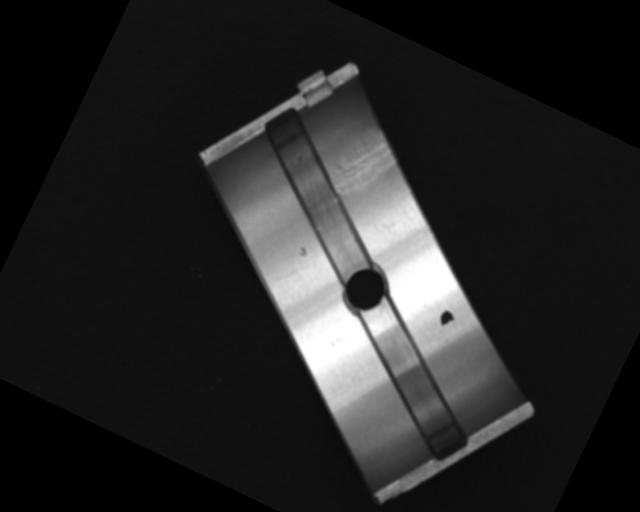blot: (436, 307, 457, 329)
bruise: (296, 245, 309, 258)
gap: (222, 101, 416, 284), (319, 293, 507, 467)
hole: (336, 260, 393, 320)
scratch: (319, 117, 405, 215)
